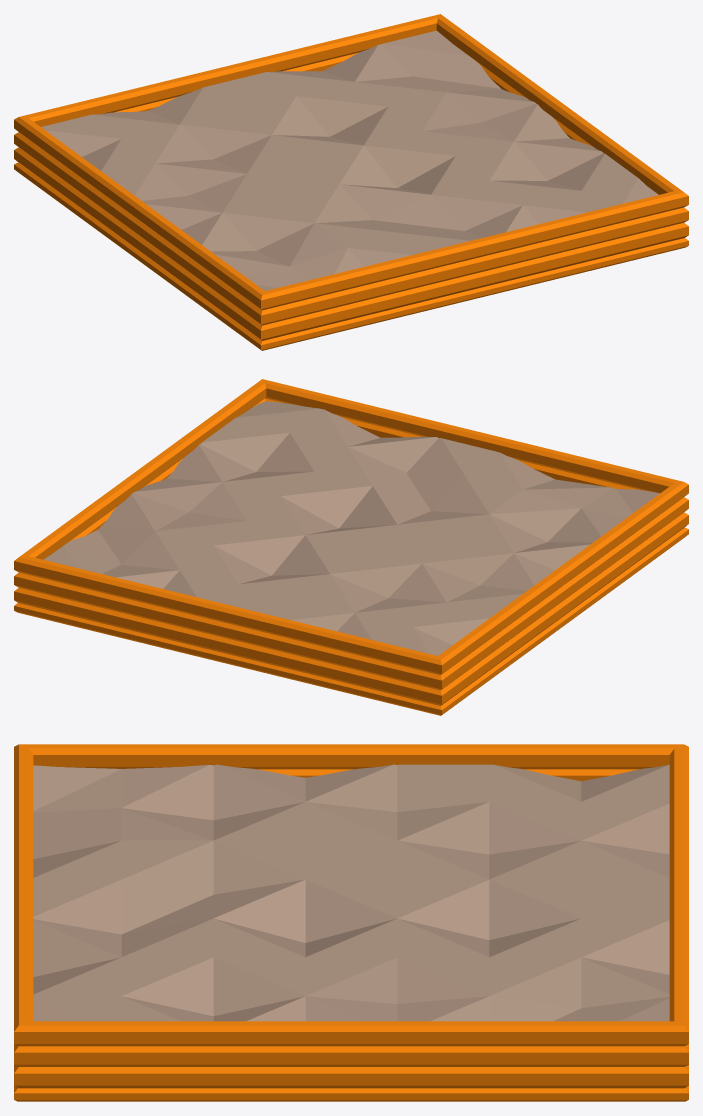
File: Isl_9_Children_sandbox.fbx
The picture shows the model from 3 angles, top to bottom: view 1: azimuth 30°, elevation 25°; view 2: azimuth 150°, elevation 25°; view 3: azimuth 270°, elevation 25°; orthographic projection. The views are drawn at different scales.
Visible parts, largest first — view 1: Isl_9_Children_sandbox; view 2: Isl_9_Children_sandbox; view 3: Isl_9_Children_sandbox.
Boxes of the visible parts, box(x1,y1,x2,y2) form: Isl_9_Children_sandbox: box(14, 14, 688, 350); Isl_9_Children_sandbox: box(14, 379, 688, 715); Isl_9_Children_sandbox: box(14, 744, 688, 1101).
Size of the model in its own units: 357 by 357 by 44.08.
1 material, 1 textured.
